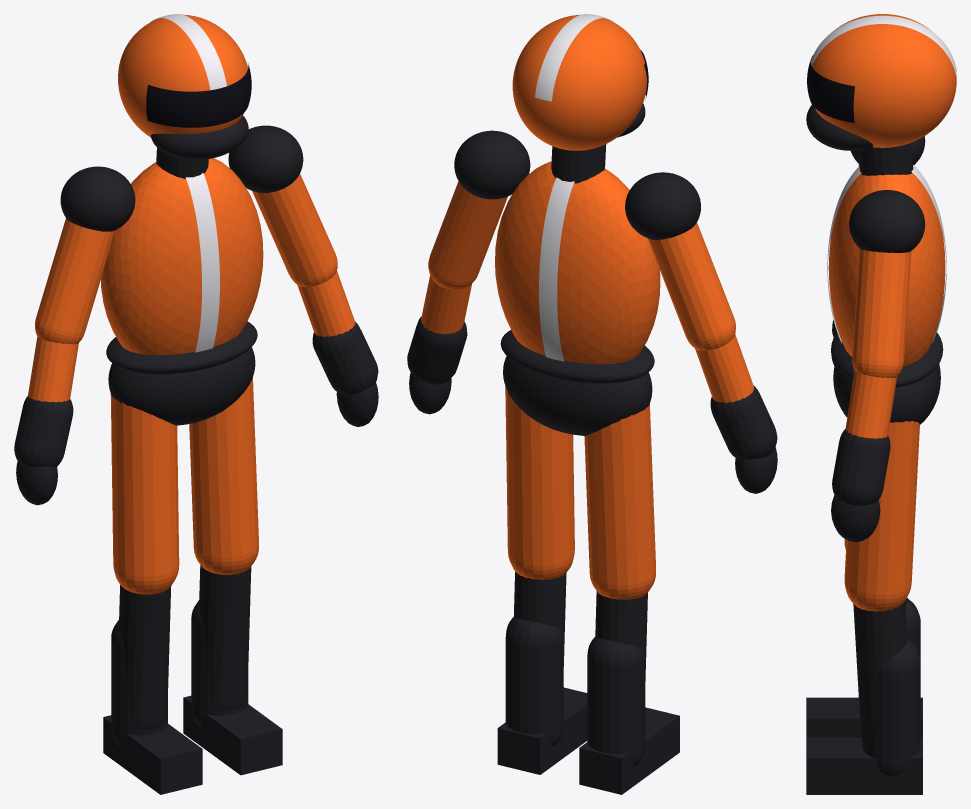
The model's file is Racer.fbx.
3 renders of one model, left to right at view 1: azimuth 30°, elevation 25°; view 2: azimuth 150°, elevation 25°; view 3: azimuth 270°, elevation 25°, orthographic.
Visible parts, largest first — view 1: Torso, Thigh_R, Thigh_L, Helmet, Boot_L, Boot_R, Hips, UpperArm_R, Shin_R, Shin_L, UpperArm_L, Shoulder_R (+13 smaller); view 2: Torso, Helmet, Thigh_R, Boot_R, Thigh_L, Boot_L, Hips, UpperArm_R, UpperArm_L, Shoulder_L, Shoulder_R, SuitStripe (+11 smaller); view 3: Helmet, Boot_L, Torso, Thigh_L, UpperArm_L, Shin_L, Shoulder_L, GloveCuff_L, Boot_R, Forearm_L, Hips, Visor (+7 smaller).
Boxes of the visible parts, x1=… form: Torso: x1=101, y1=158, x2=263, y2=355; Thigh_R: x1=110, y1=393, x2=179, y2=594; Thigh_L: x1=189, y1=377, x2=258, y2=575; Helmet: x1=118, y1=14, x2=247, y2=137; Boot_L: x1=183, y1=600, x2=282, y2=775; Boot_R: x1=103, y1=620, x2=202, y2=794; Hips: x1=108, y1=347, x2=255, y2=425; UpperArm_R: x1=35, y1=218, x2=115, y2=344; Shin_R: x1=119, y1=585, x2=171, y2=730; Shin_L: x1=199, y1=565, x2=251, y2=710; UpperArm_L: x1=252, y1=174, x2=337, y2=287; Shoulder_R: x1=60, y1=166, x2=135, y2=231; Torso: x1=495, y1=161, x2=660, y2=364; Helmet: x1=512, y1=14, x2=647, y2=150; Thigh_R: x1=584, y1=403, x2=655, y2=599; Boot_R: x1=579, y1=636, x2=679, y2=794; Thigh_L: x1=505, y1=386, x2=574, y2=579; Boot_L: x1=497, y1=616, x2=587, y2=774; Hips: x1=503, y1=356, x2=652, y2=435; UpperArm_R: x1=647, y1=223, x2=735, y2=350; UpperArm_L: x1=428, y1=181, x2=507, y2=290; Shoulder_L: x1=454, y1=130, x2=530, y2=199; Shoulder_R: x1=625, y1=172, x2=700, y2=239; SuitStripe: x1=539, y1=177, x2=574, y2=361; Helmet: x1=812, y1=14, x2=956, y2=147; Boot_L: x1=806, y1=638, x2=922, y2=794; Torso: x1=828, y1=167, x2=945, y2=366; Thigh_L: x1=844, y1=421, x2=919, y2=611; UpperArm_L: x1=852, y1=248, x2=911, y2=378; Shin_L: x1=853, y1=601, x2=907, y2=747; Shoulder_L: x1=849, y1=190, x2=925, y2=252; GloveCuff_L: x1=832, y1=429, x2=890, y2=505; Boot_R: x1=806, y1=598, x2=922, y2=737; Forearm_L: x1=845, y1=371, x2=896, y2=438; Hips: x1=833, y1=364, x2=940, y2=424; Visor: x1=807, y1=55, x2=854, y2=122.
Bounding box in the file's own units: 93.51 × 183 × 33.5.
